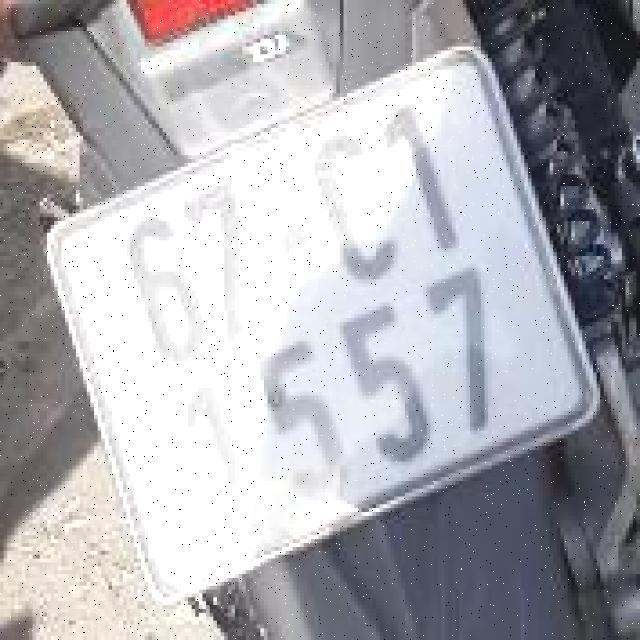1: (365, 85, 487, 268), (163, 367, 276, 531)
5: (242, 324, 368, 515), (328, 289, 451, 481)
6: (109, 199, 221, 381)
7: (405, 256, 520, 448), (175, 164, 267, 354)
C: (293, 109, 419, 296)
